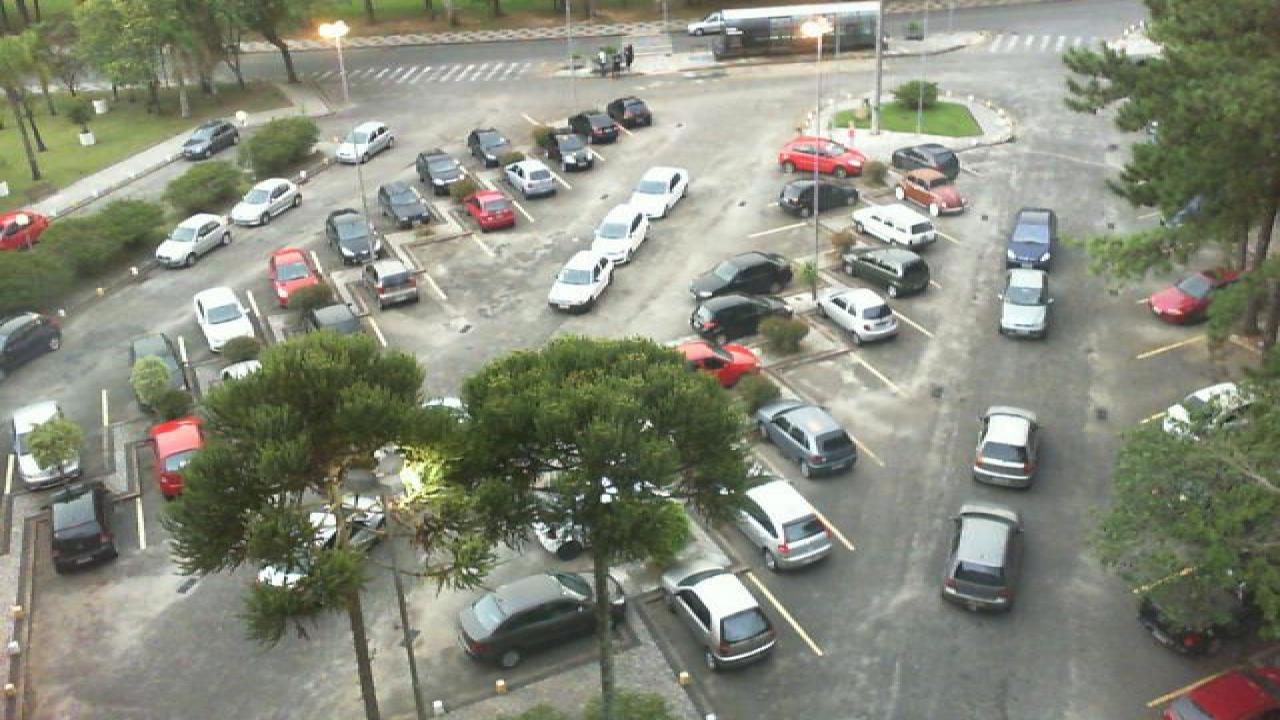Car: (452, 570, 632, 670), (656, 558, 778, 670), (728, 478, 838, 572), (752, 398, 862, 481), (940, 505, 1026, 611), (38, 482, 120, 574), (1156, 662, 1280, 720), (8, 400, 84, 488), (970, 404, 1042, 488), (1146, 264, 1246, 324), (810, 286, 900, 348), (688, 291, 792, 343), (688, 251, 794, 300), (148, 415, 208, 501), (840, 245, 936, 298), (190, 284, 260, 356), (670, 338, 764, 388), (152, 211, 232, 269), (850, 201, 942, 251), (994, 266, 1056, 340), (546, 251, 616, 313), (774, 136, 870, 181), (264, 246, 326, 308), (228, 177, 306, 226), (586, 208, 650, 267), (124, 334, 182, 398), (896, 169, 972, 217), (322, 208, 388, 263), (626, 166, 692, 221), (776, 178, 864, 219), (1004, 207, 1060, 271), (330, 120, 398, 166), (362, 255, 422, 307), (890, 142, 964, 183), (376, 179, 432, 231), (458, 190, 520, 234), (418, 147, 472, 197), (498, 159, 562, 200), (176, 120, 240, 160), (308, 300, 362, 344), (550, 132, 606, 171), (462, 126, 514, 166), (564, 107, 616, 145), (600, 94, 654, 130), (518, 119, 566, 155)
